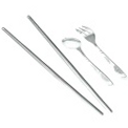fork: (69, 19, 128, 88)
